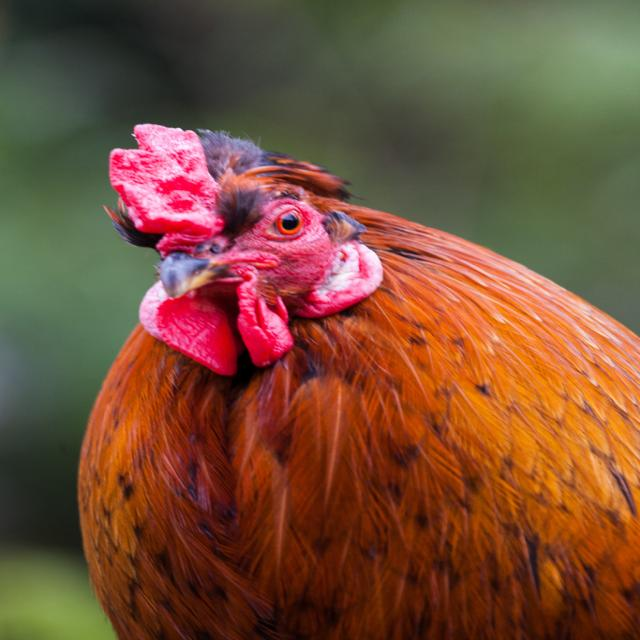Chicken: (76, 123, 640, 640)
